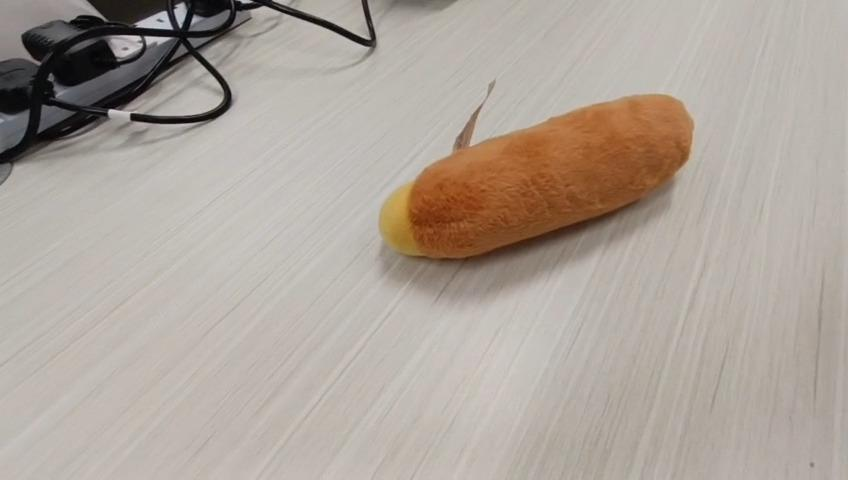hotdog: (377, 79, 694, 260)
